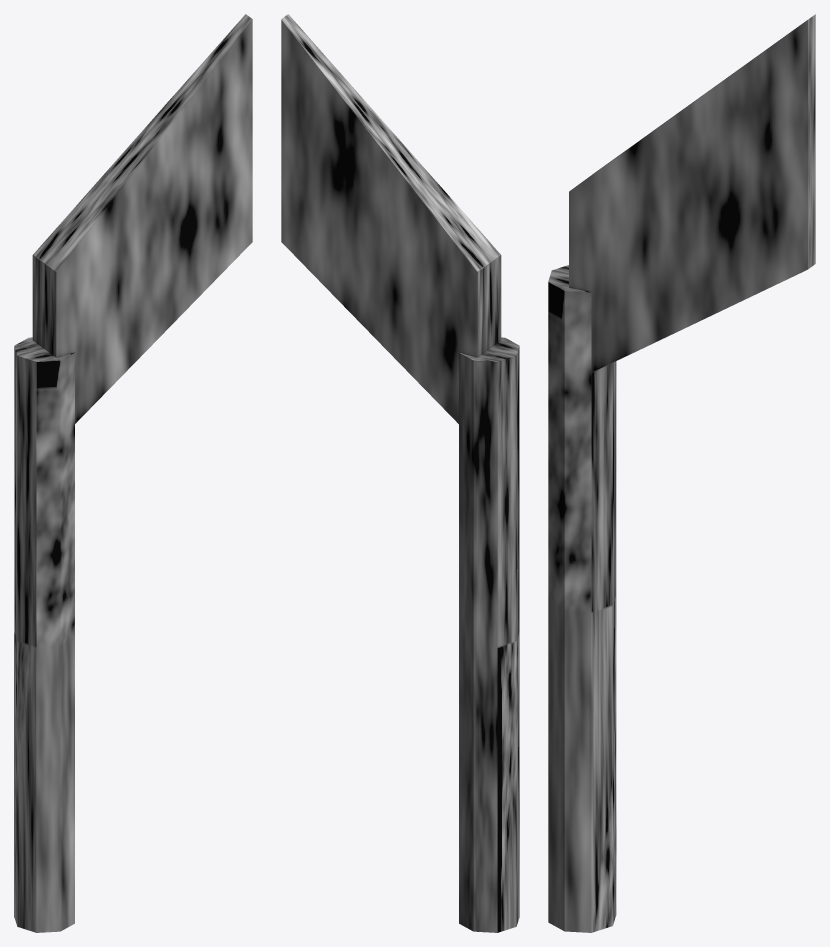
Rendered from hatchet.glb.
3 renders of one model, left to right at view 1: azimuth 30°, elevation 25°; view 2: azimuth 150°, elevation 25°; view 3: azimuth 330°, elevation 25°, orthographic. The views are drawn at different scales.
Visible parts, largest first — view 1: hatchet; view 2: hatchet; view 3: hatchet.
Part boxes in pixels (bbox=[...]): hatchet: bbox=[14, 14, 252, 932]; hatchet: bbox=[281, 14, 519, 932]; hatchet: bbox=[548, 14, 815, 932].
Bounding box in the file's own units: 0.17 × 0.598 × 0.04.
Materials: 1 (1 with a texture image).
